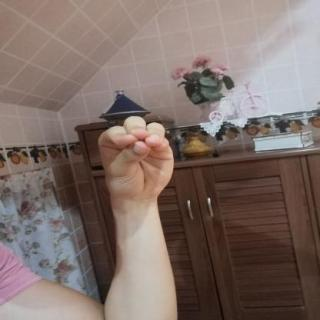HA: (89, 108, 183, 210)
